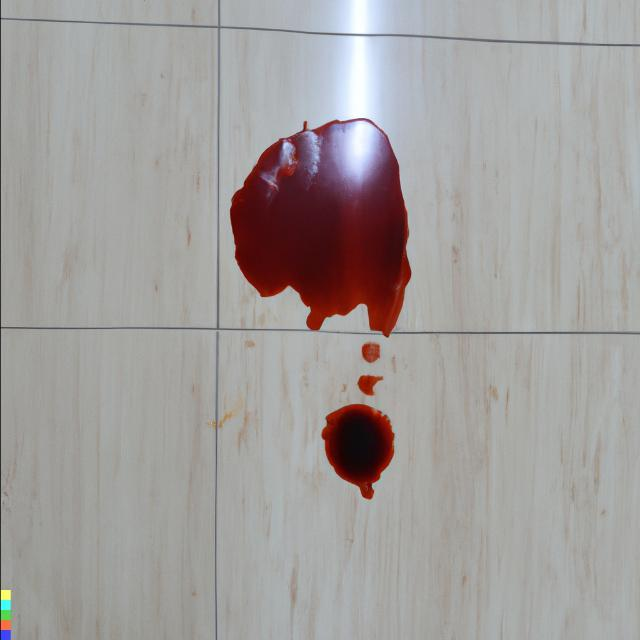blood: (229, 118, 411, 338), (321, 403, 394, 500), (357, 375, 383, 396), (361, 341, 380, 363)
